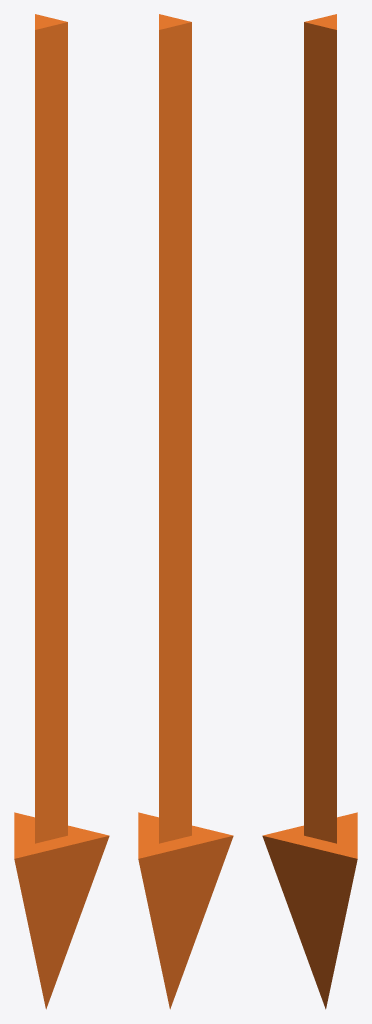
Rendered from arrow.obj.
3 views of the same model, side by side, from view 1: azimuth 90°, elevation 25°; view 2: azimuth 210°, elevation 25°; view 3: azimuth 270°, elevation 25° (orthographic).
Visible parts, largest first — view 1: Cylinder; view 2: Cylinder; view 3: Cylinder.
Part boxes in pixels (x1,y1,x2,y2): Cylinder: [14, 14, 109, 1009]; Cylinder: [138, 14, 233, 1009]; Cylinder: [262, 14, 357, 1009].
Bounding box in the file's own units: 0.1719 × 1.7 × 0.1489.
1 material, 1 textured.
